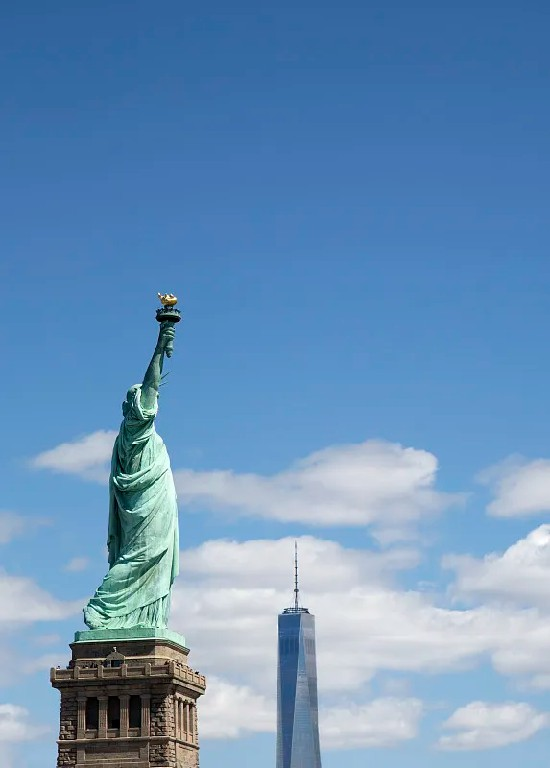SL: (50, 292, 206, 768)
